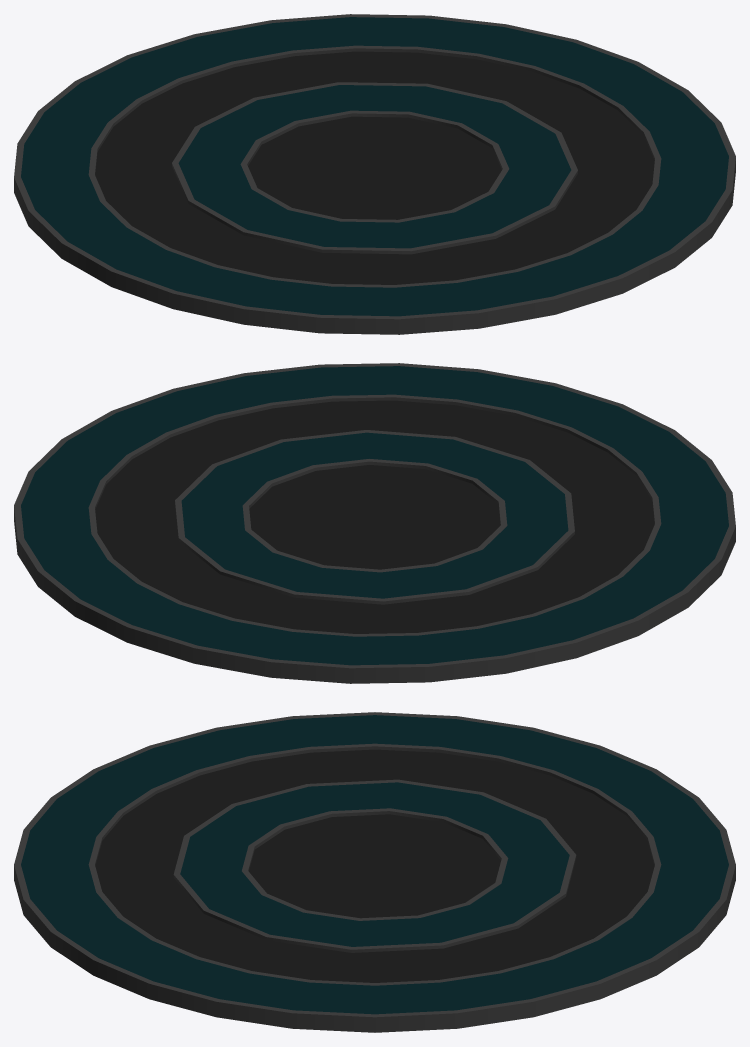
Rendered from W_O_StreetBottom_L1.fbx.
3 views of the same model, one above another, from view 1: azimuth 30°, elevation 25°; view 2: azimuth 150°, elevation 25°; view 3: azimuth 270°, elevation 25° (orthographic).
Visible parts, largest first — view 1: W_O_StreetBottom_L1; view 2: W_O_StreetBottom_L1; view 3: W_O_StreetBottom_L1.
Part boxes in pixels (x1,y1,x2,y2): W_O_StreetBottom_L1: (14, 14, 735, 334); W_O_StreetBottom_L1: (14, 363, 735, 683); W_O_StreetBottom_L1: (14, 712, 735, 1032).
Size of the model in its own units: 4.05 by 0.097 by 4.05.
